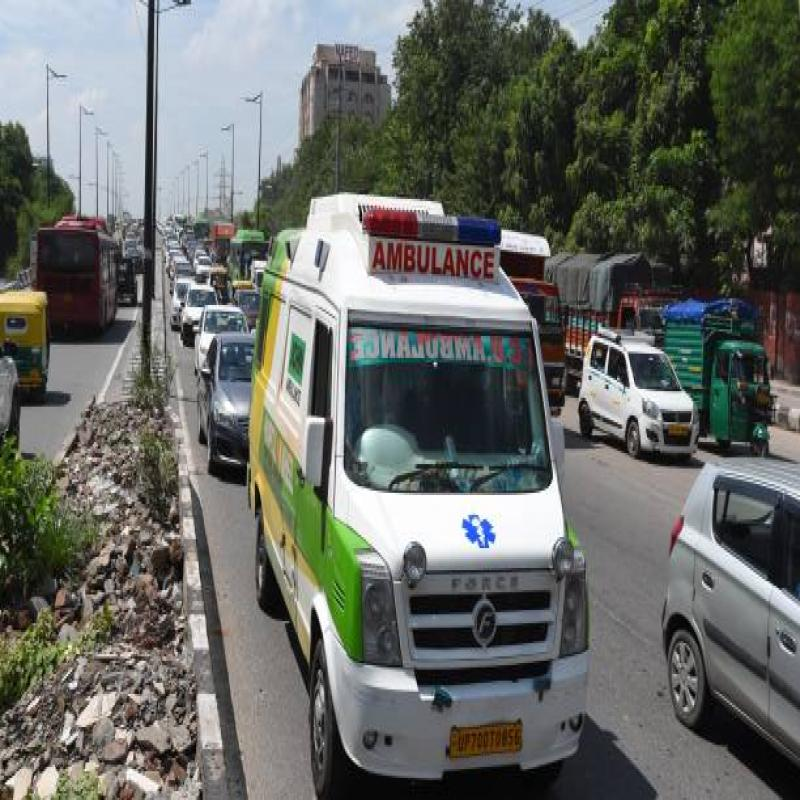ambulance: (262, 185, 574, 800)
